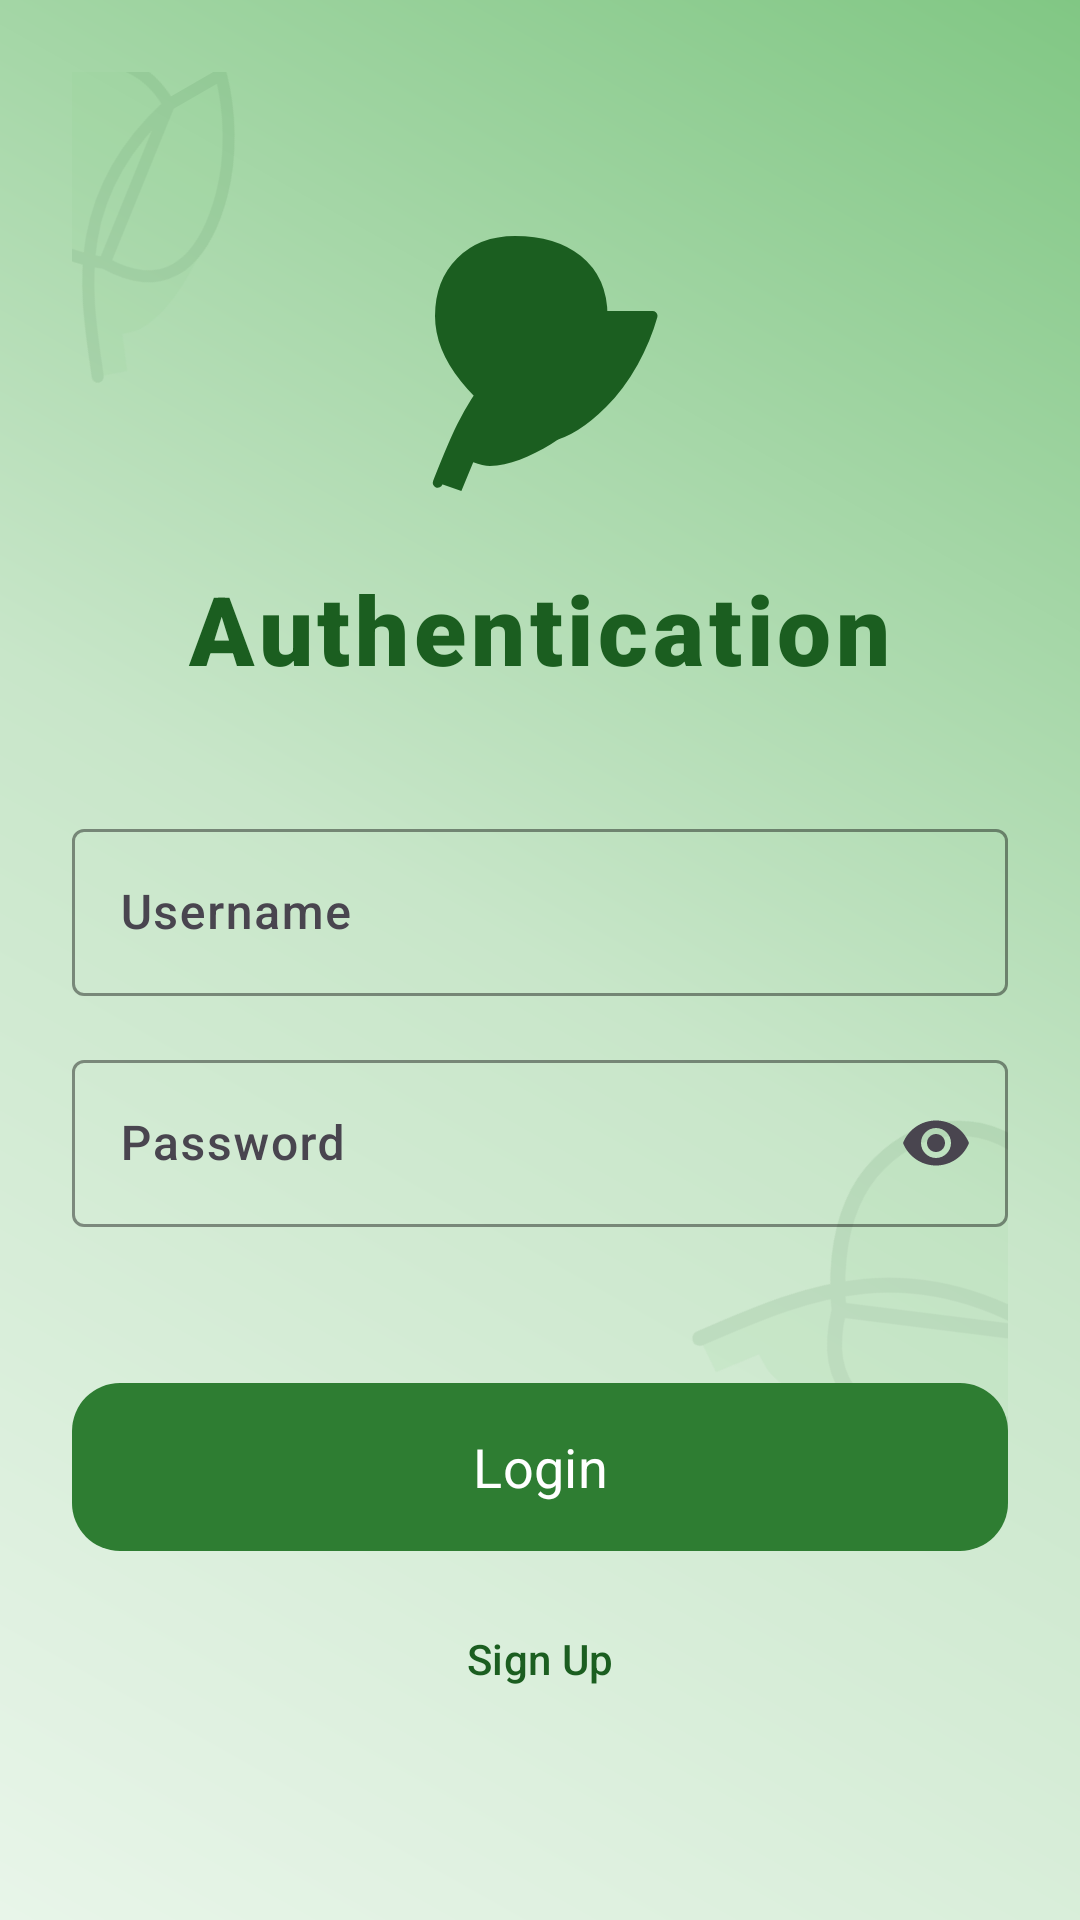

Icons on this 1080 x 1920 Android screen, each with its box as (x1, y1, x2, y2):
leaf: (433, 236, 658, 491)
